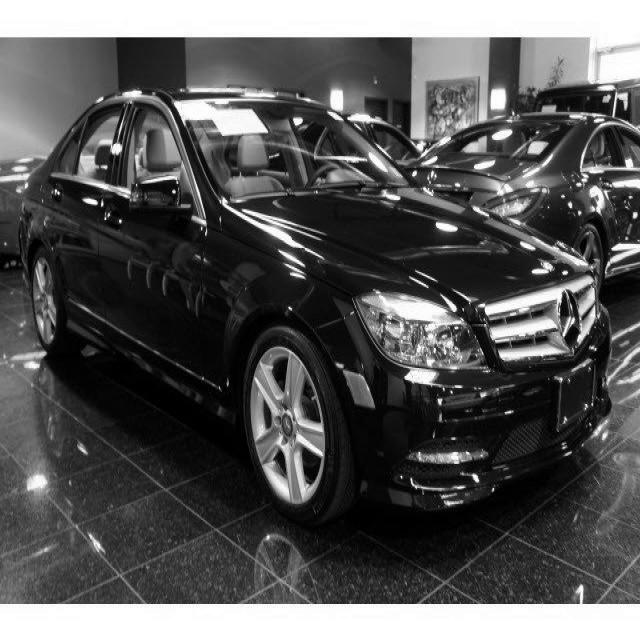car: (17, 84, 613, 528)
